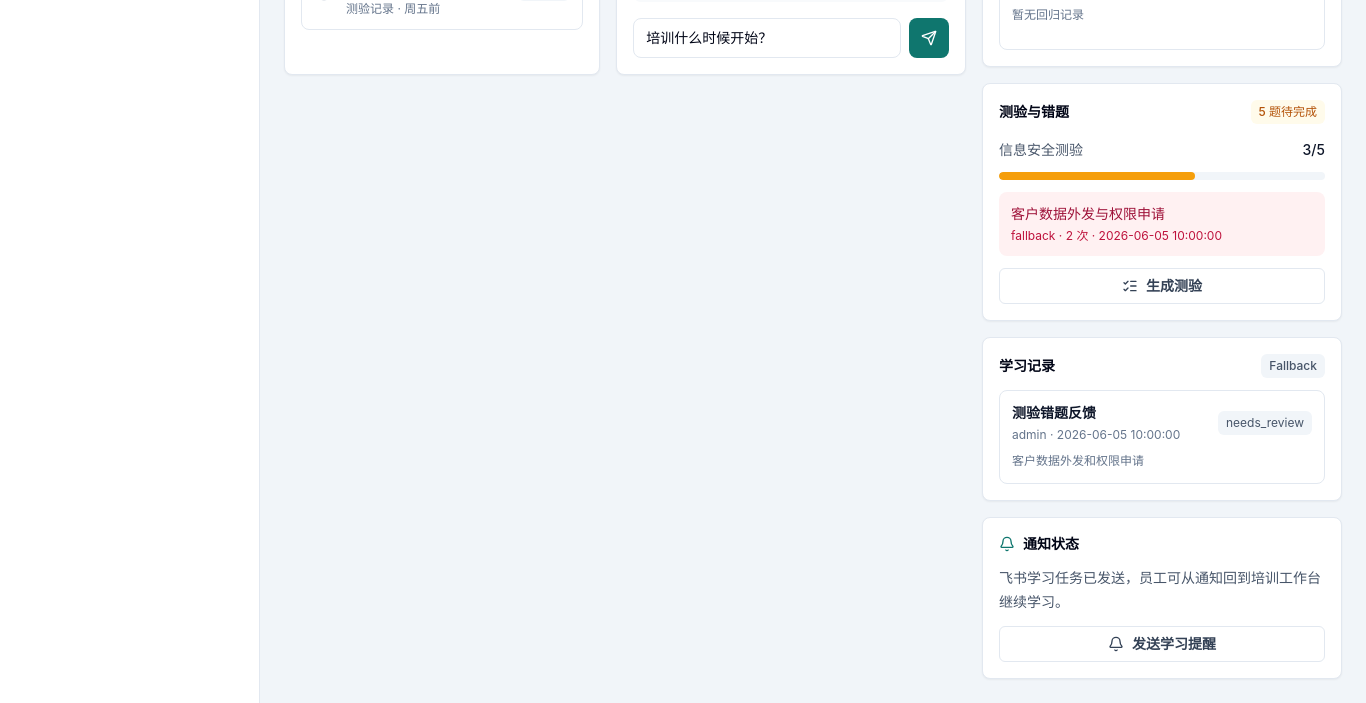
Test case: Training home page › shows a user-readable Feishu reminder approval state
(page scrolled)
What coordinates should you click on to do the following:
click the button "发送学习提醒"
I would click on:
 (1162, 644)
Its box is [999,626,1325,662].
(page scrolled)
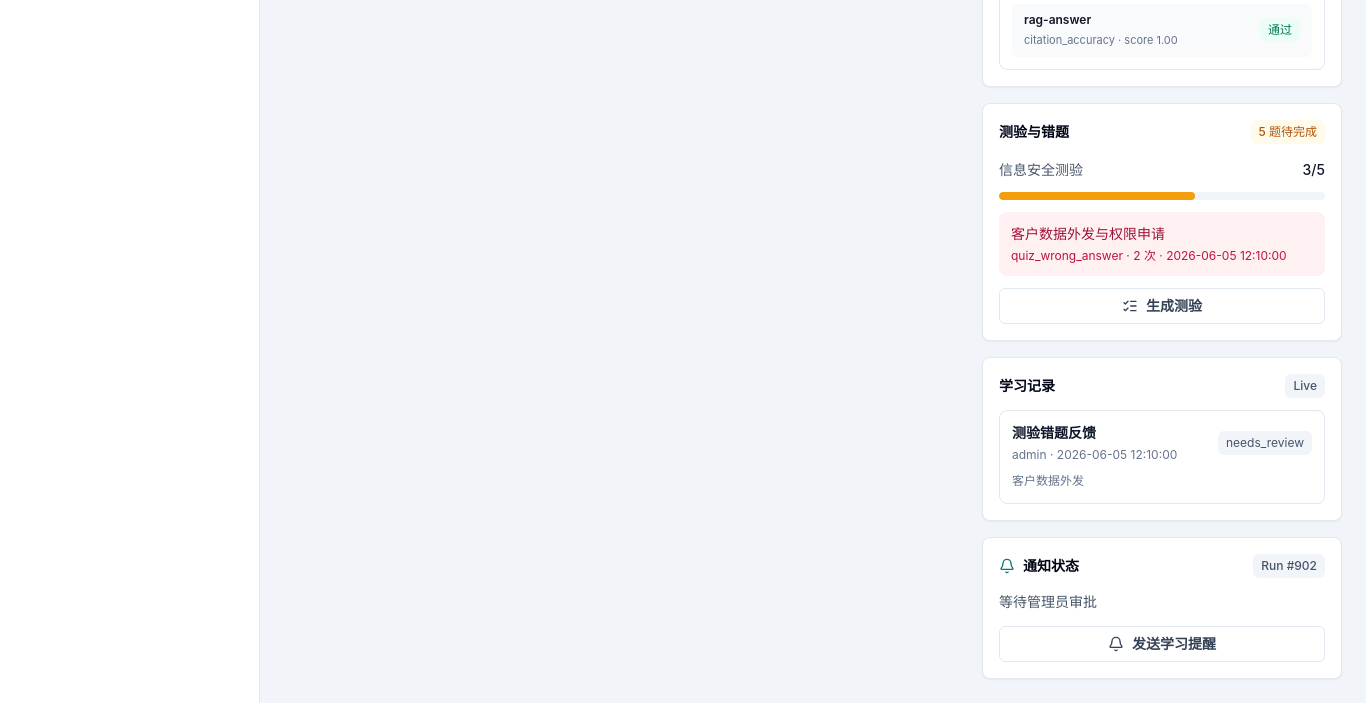
Expected: the text "等待管理员审批" is shown, [999,592,1097,610]
